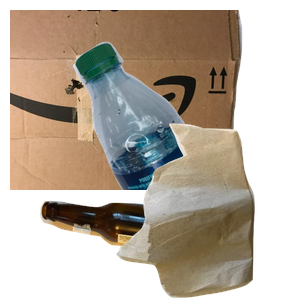cardboard: (10, 10, 245, 190)
glass: (37, 198, 236, 300)
plastic: (71, 39, 300, 219)
trash: (114, 121, 300, 300)
